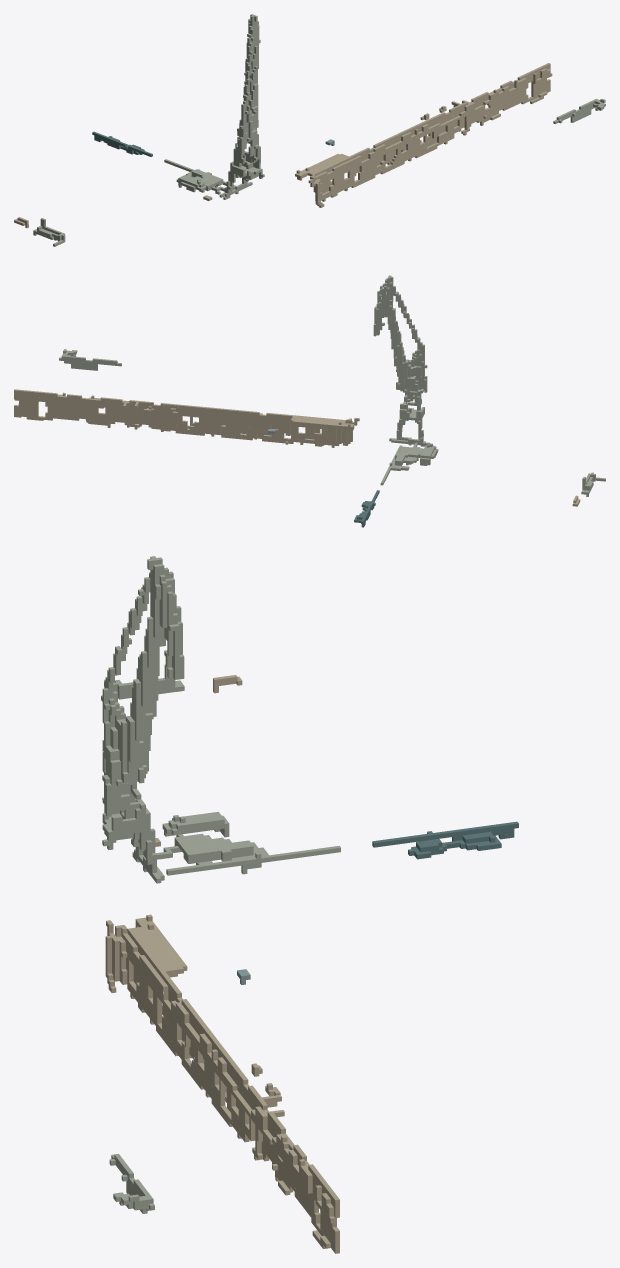
3 views of the same model, one above another, from view 1: azimuth 30°, elevation 25°; view 2: azimuth 150°, elevation 25°; view 3: azimuth 270°, elevation 25° (orthographic). The views are drawn at different scales.
Visible parts, largest first — view 1: measured-industrial; view 2: measured-industrial; view 3: measured-industrial.
Part boxes in pixels (left/top/right/bottom): measured-industrial: left=14, top=14, right=605, bottom=246; measured-industrial: left=14, top=275, right=605, bottom=527; measured-industrial: left=101, top=556, right=518, bottom=1253.
Bounding box in the file's own units: 254 × 84.95 × 84.98.
